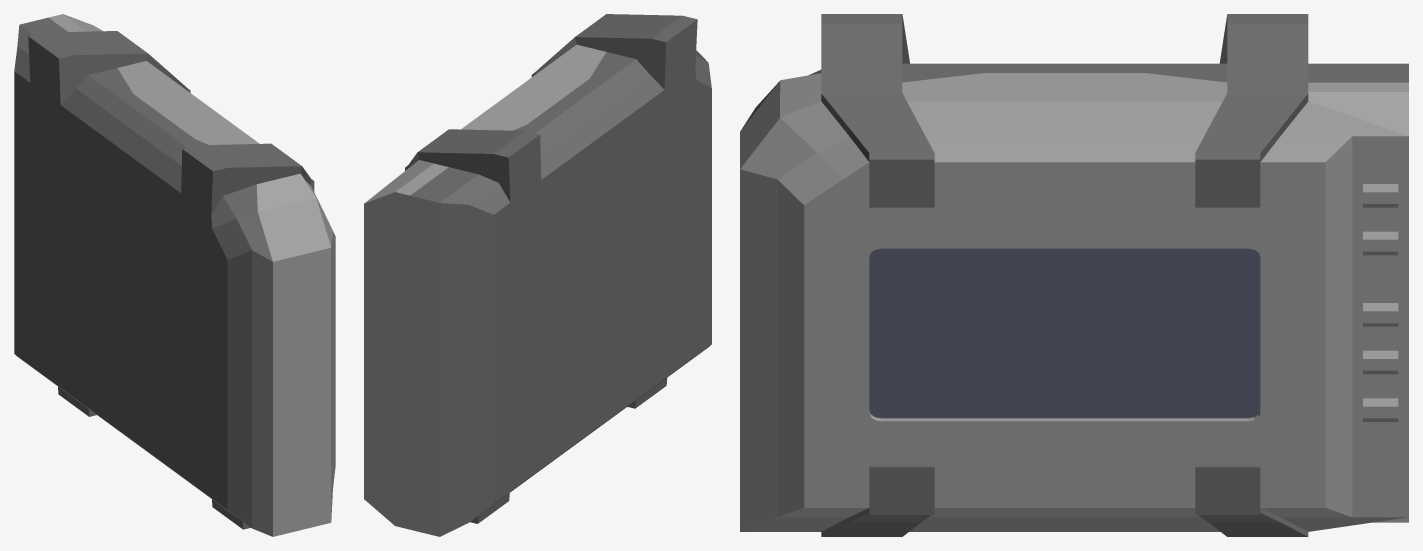
Rendered from terminal.fbx.
The picture shows the model from 3 angles, left to right: view 1: azimuth 30°, elevation 25°; view 2: azimuth 150°, elevation 25°; view 3: azimuth 270°, elevation 25°; orthographic projection. The views are drawn at different scales.
Parts seen in each view (by area): view 1: Cube; view 2: Cube; view 3: Cube.
Boxes of the visible parts, <box> form: Cube: <box>14,14,335,536</box>; Cube: <box>364,14,711,536</box>; Cube: <box>740,14,1408,536</box>.
Size of the model in its own units: 0.5642 by 1.64 by 2.06.
